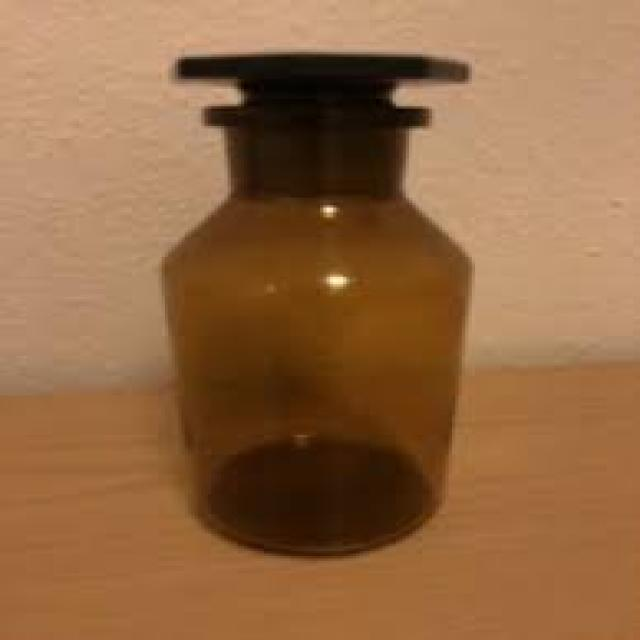glass: (152, 52, 475, 558)
